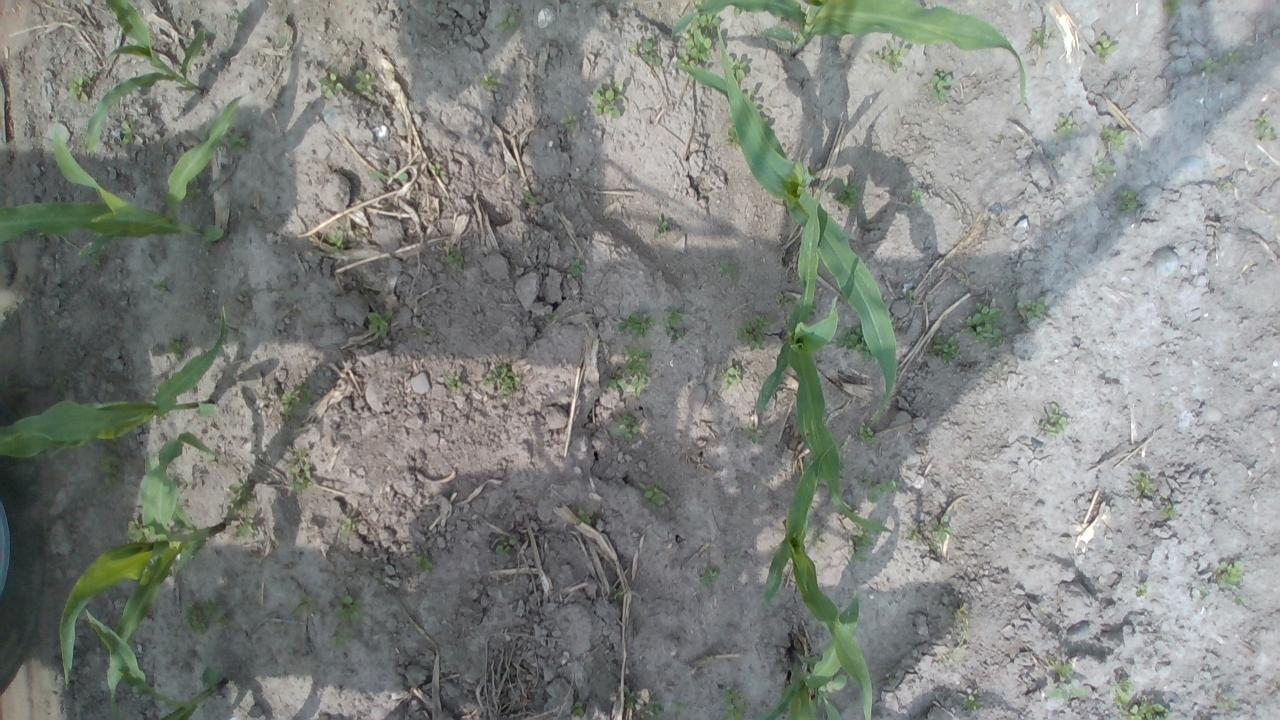Maize: (678, 18, 902, 421), (756, 173, 898, 538), (59, 433, 225, 714), (0, 94, 244, 256), (669, 0, 1028, 104), (0, 304, 221, 460), (764, 435, 874, 720), (81, 0, 206, 154), (81, 603, 230, 720), (744, 585, 862, 720)
Weeds: (675, 0, 723, 80), (605, 346, 653, 397), (222, 480, 262, 538), (964, 299, 1005, 350), (809, 669, 848, 720), (181, 596, 230, 636), (834, 324, 878, 364), (89, 450, 124, 494), (482, 360, 520, 400), (280, 380, 318, 418), (734, 314, 774, 350), (592, 76, 625, 117), (284, 448, 312, 494), (920, 67, 954, 104), (874, 38, 908, 74), (859, 473, 896, 505), (182, 166, 210, 208), (1120, 697, 1171, 720), (628, 35, 663, 68), (742, 87, 772, 125), (928, 330, 961, 364), (618, 312, 658, 340), (927, 514, 954, 555), (637, 478, 670, 510), (1090, 153, 1118, 190), (1043, 680, 1090, 702), (330, 592, 363, 623), (1037, 404, 1068, 436), (66, 70, 96, 102), (717, 686, 745, 720), (324, 229, 359, 256), (662, 304, 687, 341), (288, 590, 321, 618), (833, 176, 860, 210), (1098, 123, 1128, 153), (364, 308, 392, 340), (848, 530, 874, 564), (1130, 469, 1157, 501), (724, 52, 752, 81), (124, 514, 150, 545), (346, 68, 378, 93), (220, 130, 250, 156), (639, 689, 664, 720), (1016, 296, 1048, 320), (1092, 35, 1118, 64), (318, 70, 344, 99), (1216, 559, 1243, 586), (614, 412, 639, 441), (936, 604, 966, 628), (326, 626, 356, 650), (1045, 654, 1074, 678), (1032, 24, 1058, 50), (1110, 676, 1132, 706), (172, 474, 195, 501), (164, 334, 186, 362), (723, 116, 741, 150), (1254, 115, 1278, 140), (718, 364, 742, 389), (412, 550, 436, 575), (557, 106, 580, 132), (493, 12, 520, 34), (1116, 190, 1140, 214), (368, 168, 409, 182), (716, 260, 740, 282), (479, 70, 503, 92), (445, 247, 466, 272), (1052, 115, 1074, 138), (741, 422, 764, 444), (961, 688, 982, 712), (622, 684, 642, 709), (1158, 491, 1176, 518), (119, 118, 137, 144), (494, 536, 516, 557), (774, 290, 797, 310), (1214, 692, 1237, 710), (701, 566, 721, 586), (339, 516, 356, 539), (652, 214, 668, 238), (858, 425, 878, 444), (1198, 57, 1220, 74), (906, 522, 926, 540), (1161, 0, 1181, 17), (441, 374, 461, 391), (152, 279, 170, 297), (574, 507, 593, 524), (88, 250, 104, 270), (1135, 579, 1152, 597), (521, 189, 539, 206), (909, 188, 926, 205), (568, 258, 584, 276), (812, 528, 826, 548), (838, 450, 852, 470), (428, 162, 448, 176), (570, 702, 586, 718), (1230, 592, 1248, 606), (1223, 50, 1243, 62), (674, 698, 686, 717), (884, 670, 897, 684), (1196, 582, 1208, 597), (904, 289, 916, 303), (228, 13, 246, 22), (612, 587, 624, 599), (1218, 181, 1232, 190), (546, 311, 558, 321), (733, 6, 744, 16), (278, 34, 288, 45), (279, 14, 287, 26), (418, 325, 430, 332)
